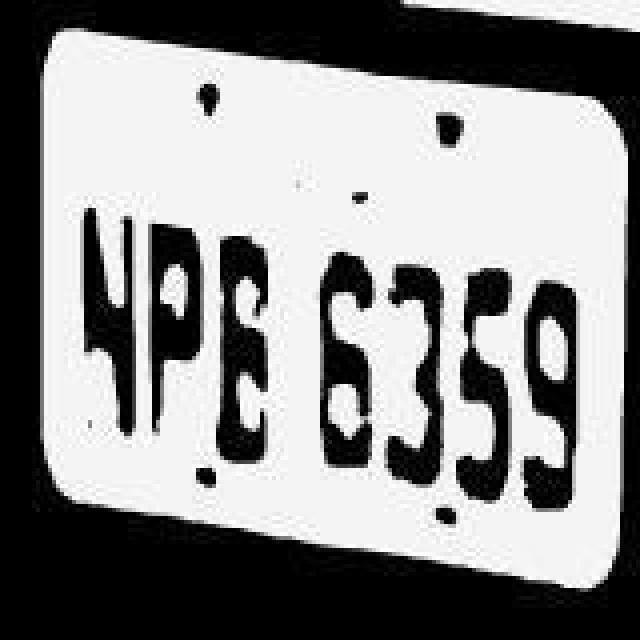3: (380, 250, 452, 486)
5: (448, 226, 520, 510)
6: (296, 242, 376, 486)
9: (516, 254, 588, 530)
B: (208, 226, 288, 470)
N: (66, 190, 142, 474)
P: (136, 196, 208, 460)
